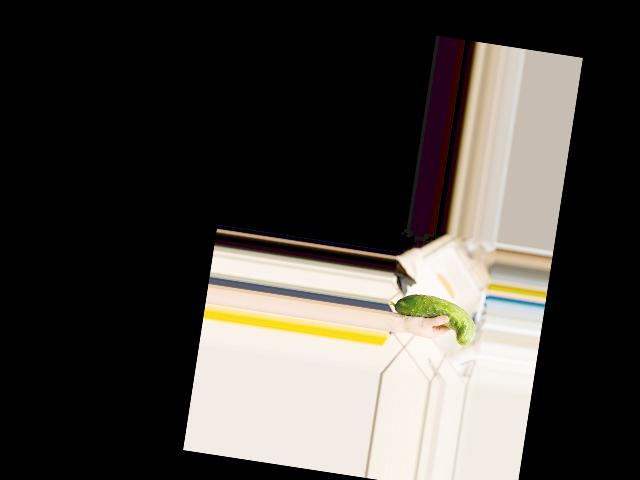cucumber: (384, 289, 479, 346)
